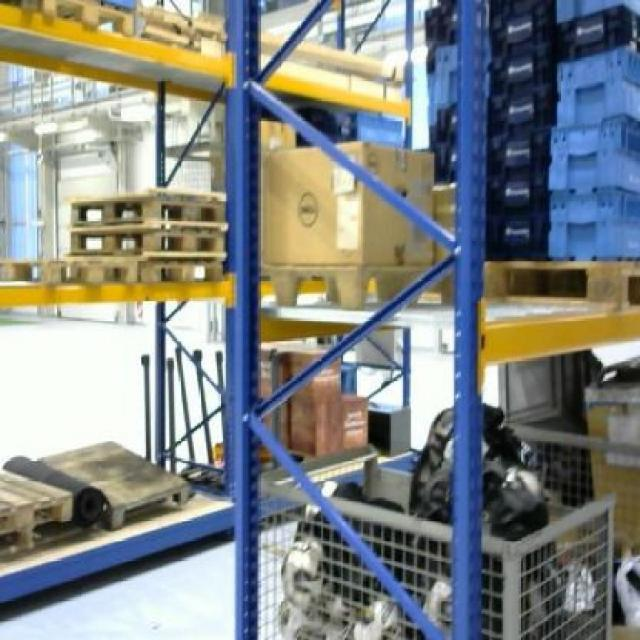box: (260, 144, 432, 266), (286, 402, 343, 456), (287, 348, 341, 400), (342, 394, 370, 451)
